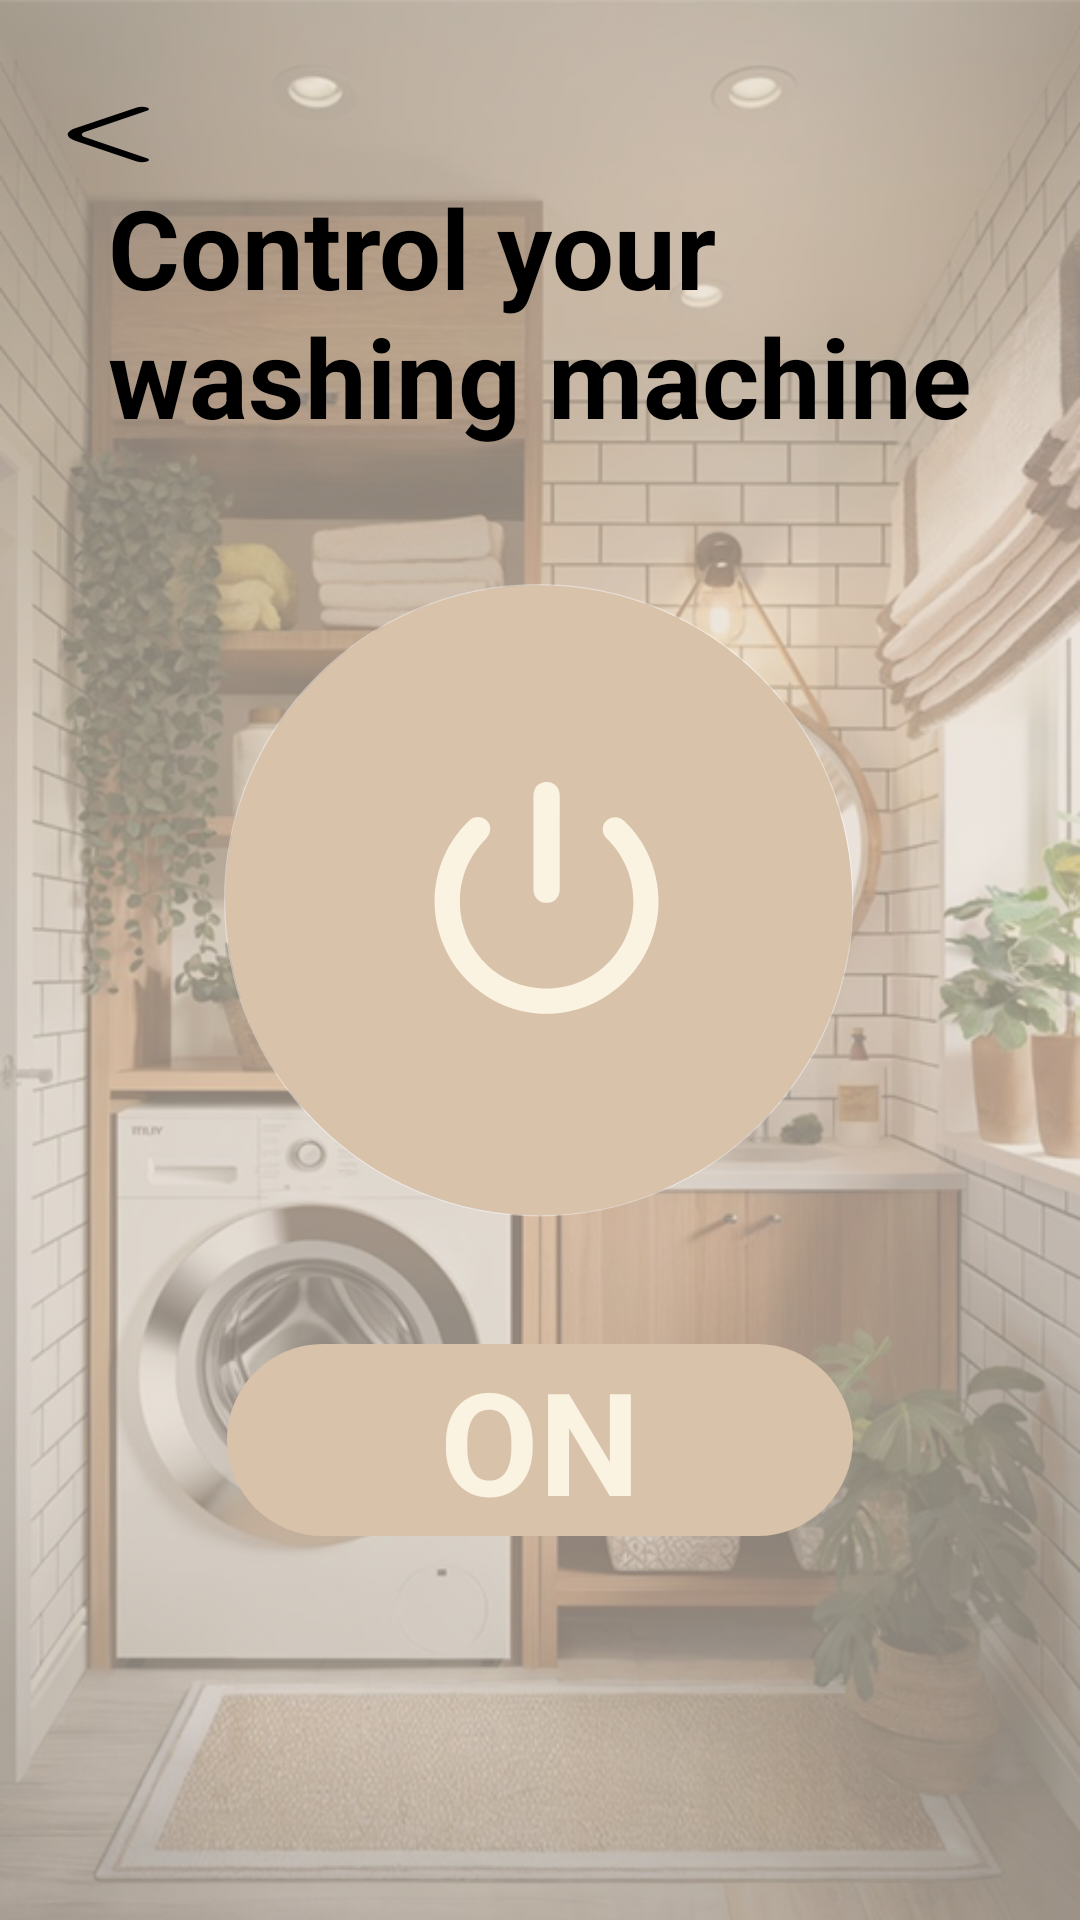

Icons on this 1080px×1920px Android screen, each with its box as (x1, y1, x2, y2):
arrow left: (67, 106, 149, 163)
